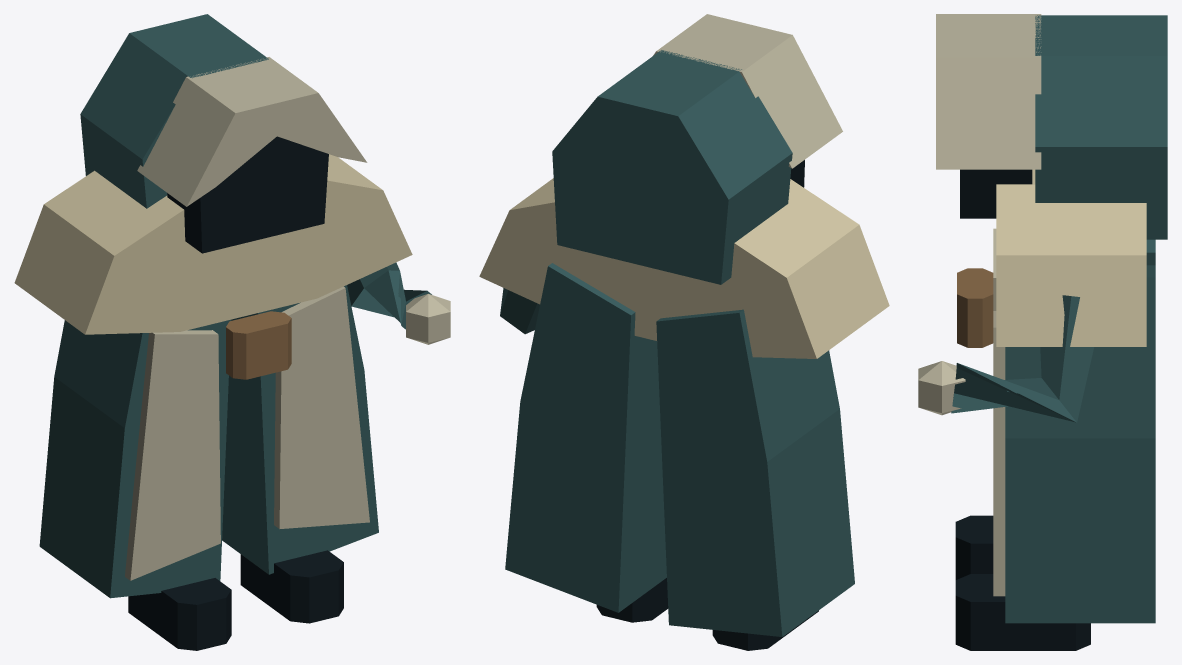
File: keeper.glb
3 views of the same model, side by side, from view 1: azimuth 30°, elevation 25°; view 2: azimuth 150°, elevation 25°; view 3: azimuth 270°, elevation 25° (orthographic). The views are drawn at different scales.
Parts seen in each view (by area): view 1: body, arm_r; view 2: body, arm_r; view 3: body, arm_r.
Part boxes in pixels (x1=…): body: x1=14, y1=14, x2=412, y2=650; arm_r: x1=347, y1=262, x2=450, y2=344; body: x1=479, y1=14, x2=889, y2=650; arm_r: x1=500, y1=288, x2=539, y2=334; body: x1=936, y1=14, x2=1167, y2=650; arm_r: x1=918, y1=295, x2=1093, y2=422.
Size of the model in its own units: 1.41 by 2.1 by 0.8288.
